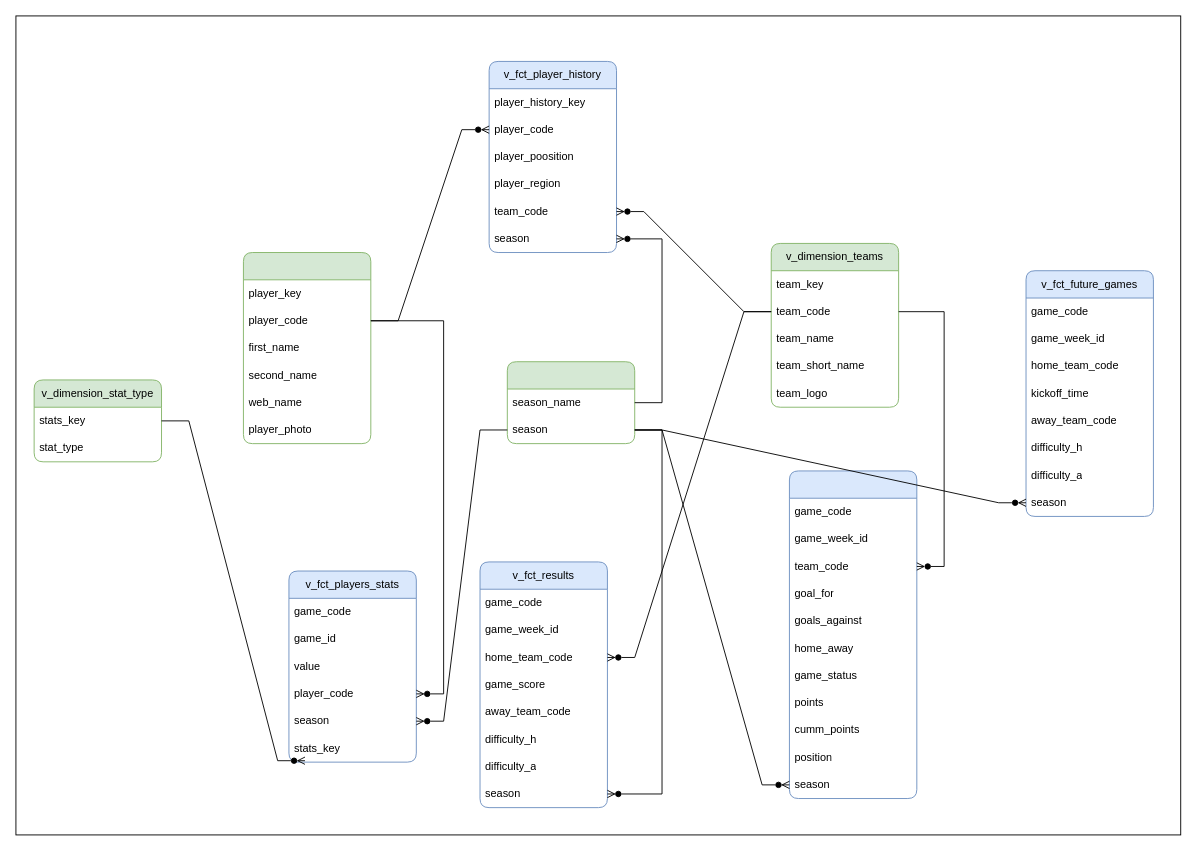
The diagram is 1197 pixels wide and 851 high, and some of its shapes have lost their labels. Each missing label, with the box of its shape:
v_dimension_players: (243, 252, 371, 444)
v_dimension_seasons: (506, 361, 635, 444)
v_fct_standing: (789, 470, 917, 799)
